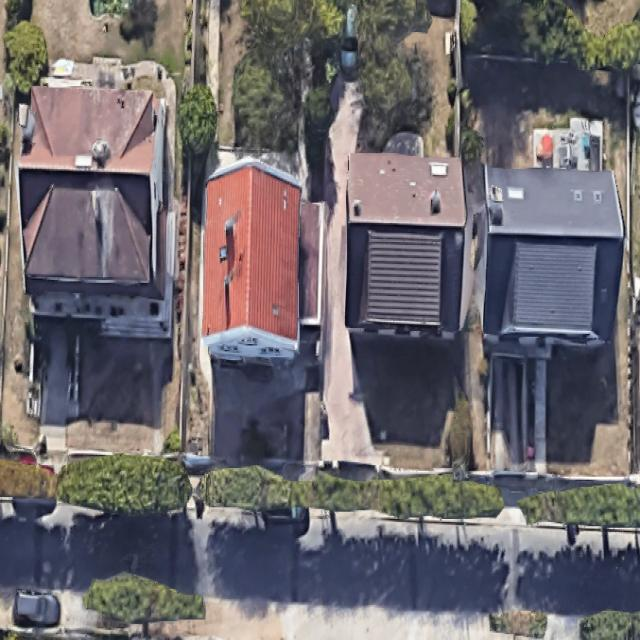maison: (9, 85, 181, 338), (477, 165, 628, 349), (340, 153, 469, 337), (200, 155, 302, 359)
